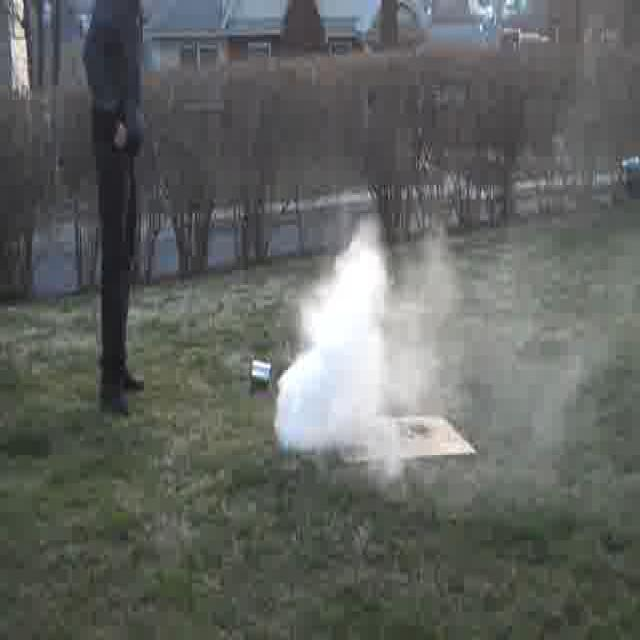Smoke: (282, 248, 398, 448)
